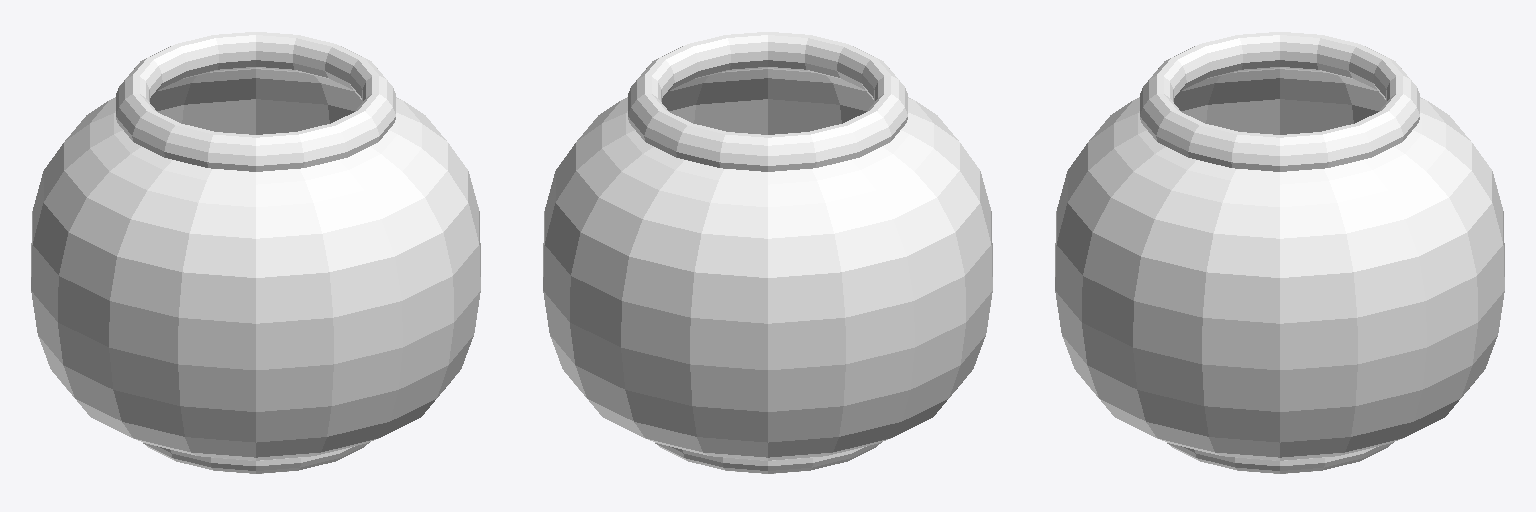
The picture shows the model from 3 angles: view 1: azimuth 30°, elevation 25°; view 2: azimuth 150°, elevation 25°; view 3: azimuth 270°, elevation 25°; orthographic projection.
Parts seen in each view (by area): view 1: FishBowl; view 2: FishBowl; view 3: FishBowl.
Boxes of the visible parts, box(x1,y1,x2,y2) form: FishBowl: box(31, 32, 480, 473); FishBowl: box(543, 32, 992, 473); FishBowl: box(1055, 32, 1504, 473).
Size of the model in its own units: 19.55 by 16.13 by 19.19.